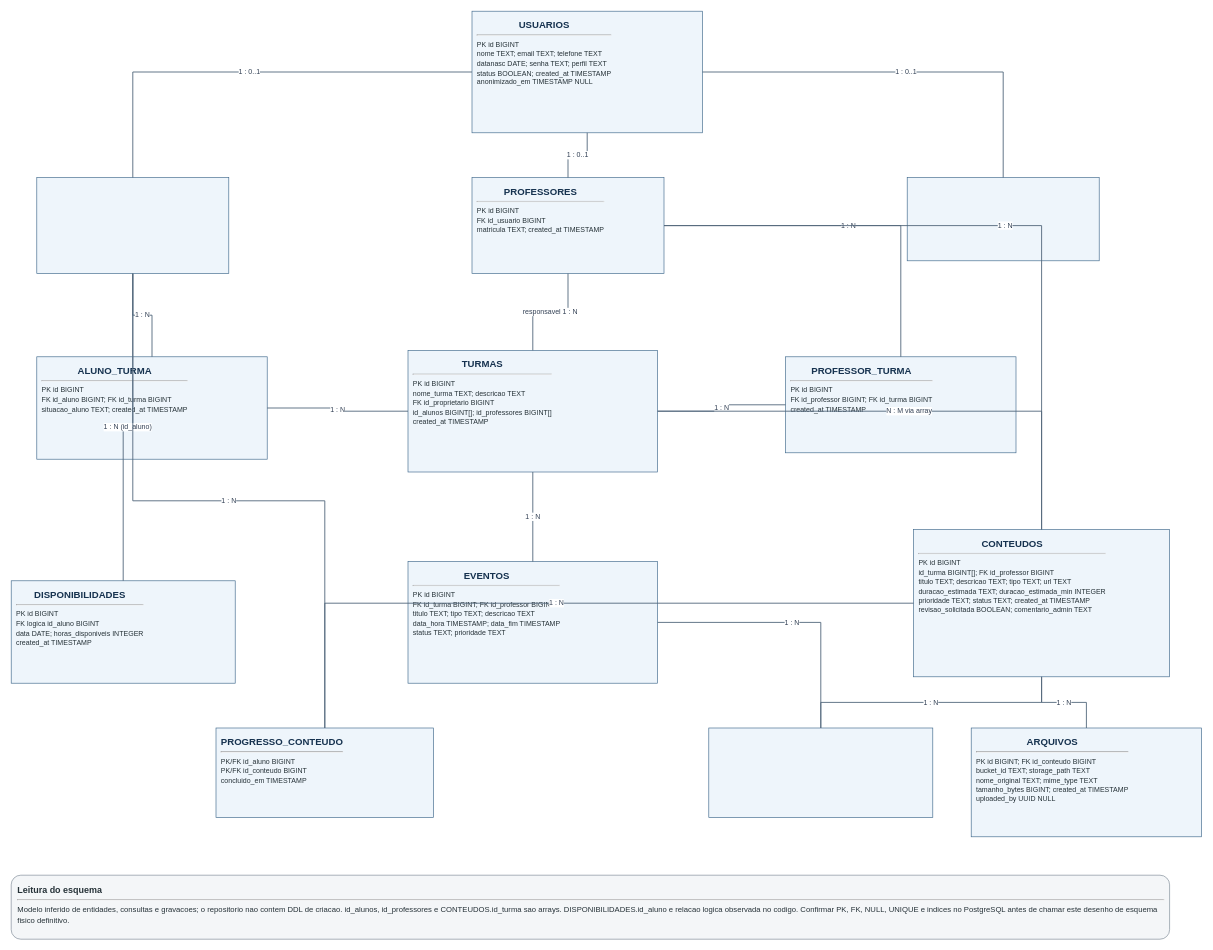
Image size: 1213x950. Some labels were removed from this diagram. The centre of each missing label's shape, as x and y in pixels:
"ADMINISTRADOR PK id BIGINT FK id_usuario BIGINT" belongs at [1003,219].
"ALUNOS PK id BIGINT FK id_usuario BIGINT rgm TEXT; created_at TIMESTAMP" belongs at [132,225].
"EVENTO_CONTEUDO PK/FK id_evento BIGINT PK/FK id_conteudo BIGINT Associacao N:M" belongs at [820,772].
